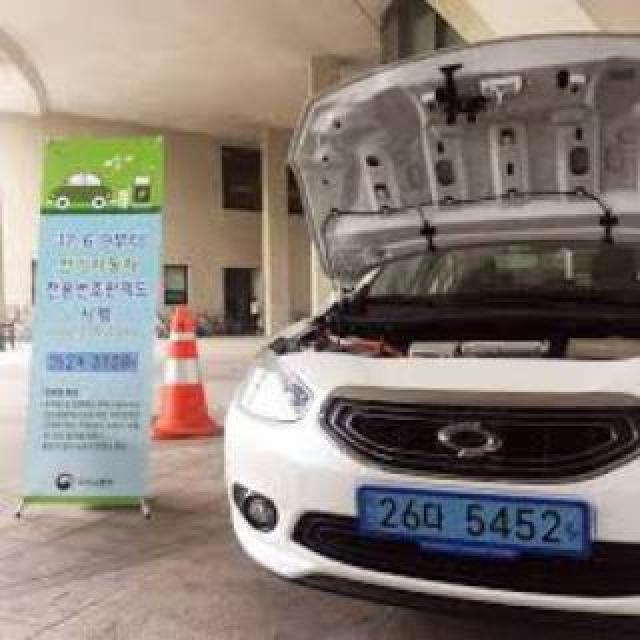EV_plate: (360, 484, 594, 564)
car: (216, 21, 640, 624)
